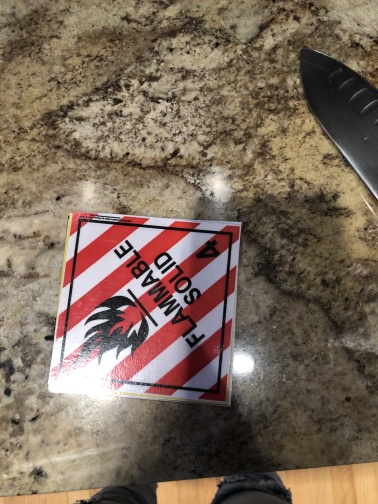FlammableSolid: (61, 214, 235, 401)
